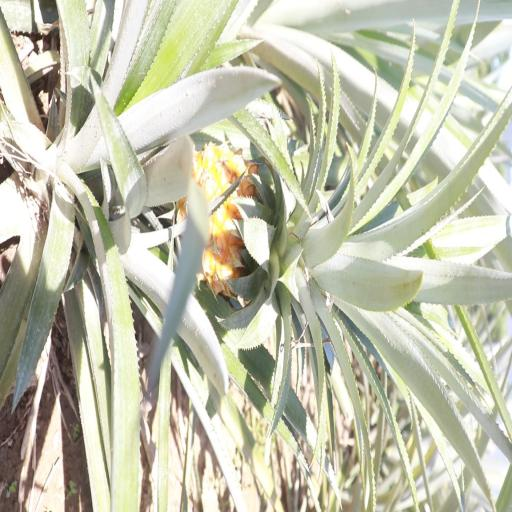Pineapple - v8 v1: (178, 138, 419, 324)
